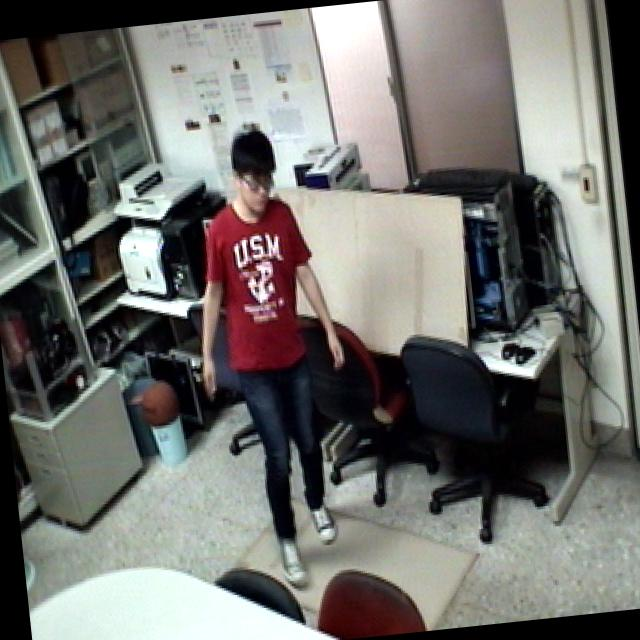stand: (164, 113, 371, 600)
